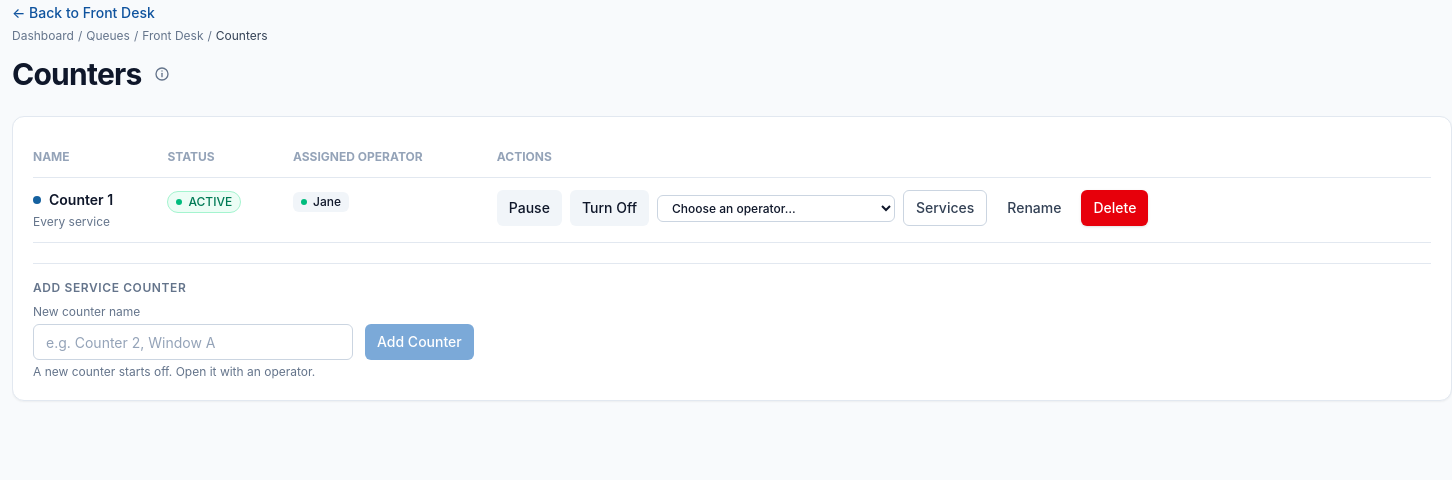
Test case: QueueCountersPage — who may manage › shows a fallback message when creating a counter fails without a server answer
This screenshot has width=1452, height=480.
Type "Counter 2" into the field labelled "New counter name".
click(193, 342); type("Counter 2")  # box [33, 324, 353, 360]
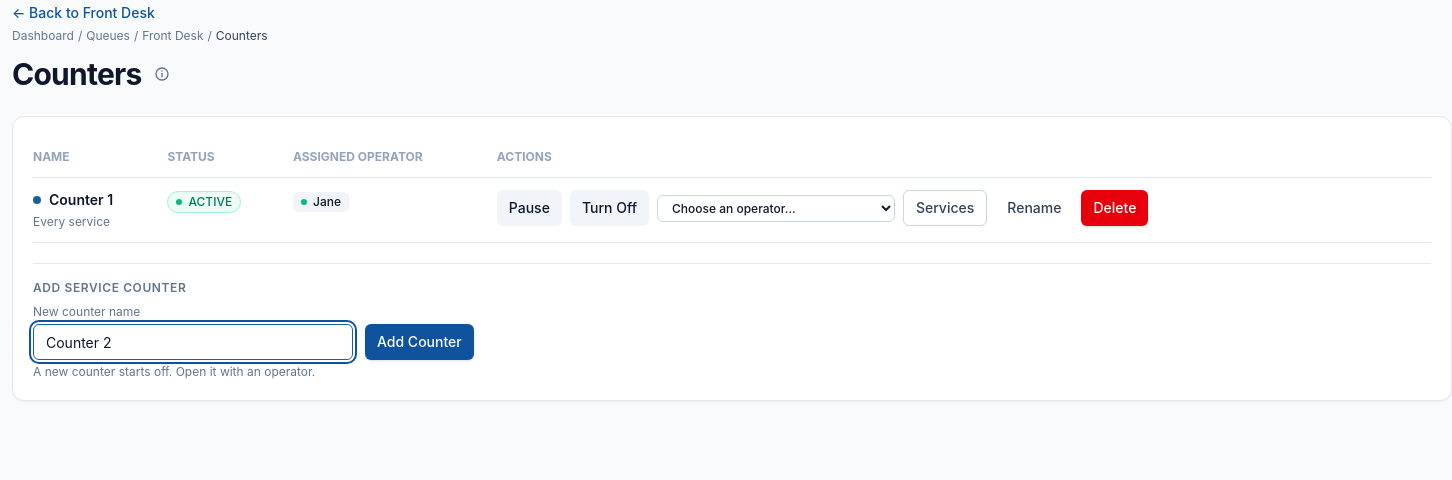
Click the button "Add Counter".
click(419, 342)  # box [365, 324, 474, 360]
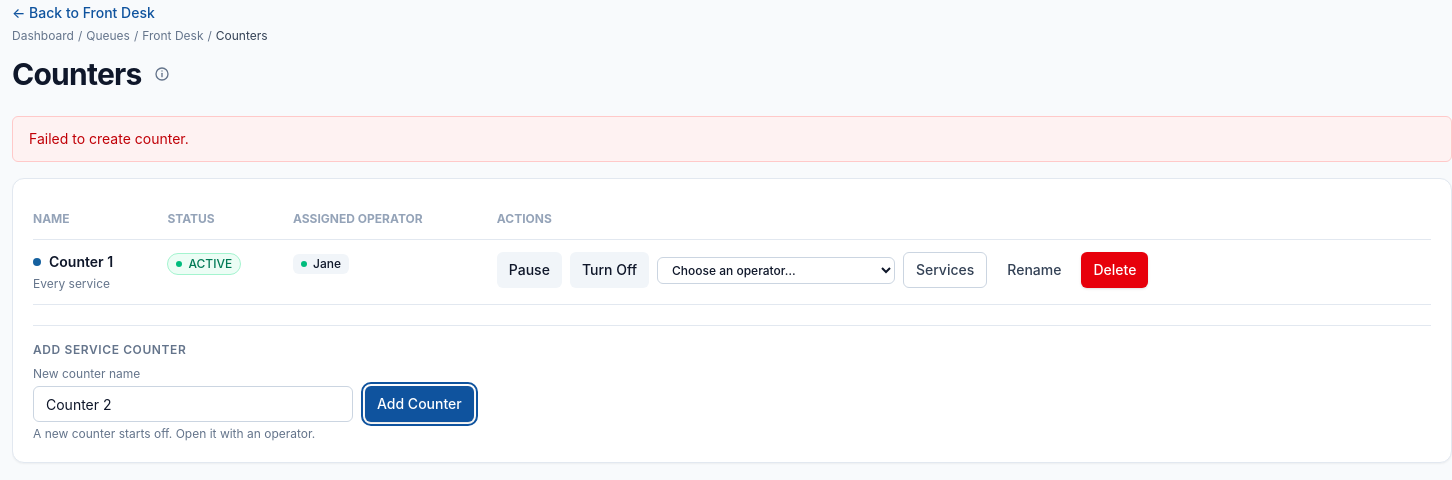
Expected: the message reads "Failed to create counter.", [29, 130, 189, 147]
